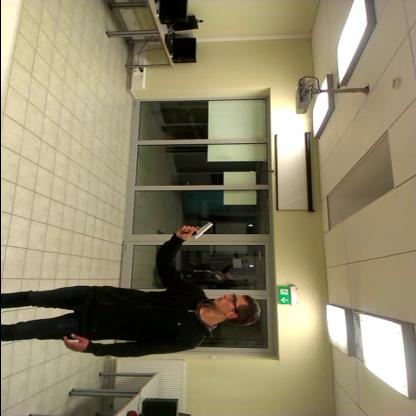Pistol: (176, 216, 216, 246)
